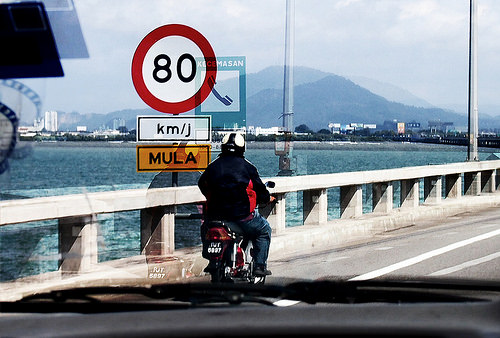Speed_limit_80km: (131, 24, 218, 114)
